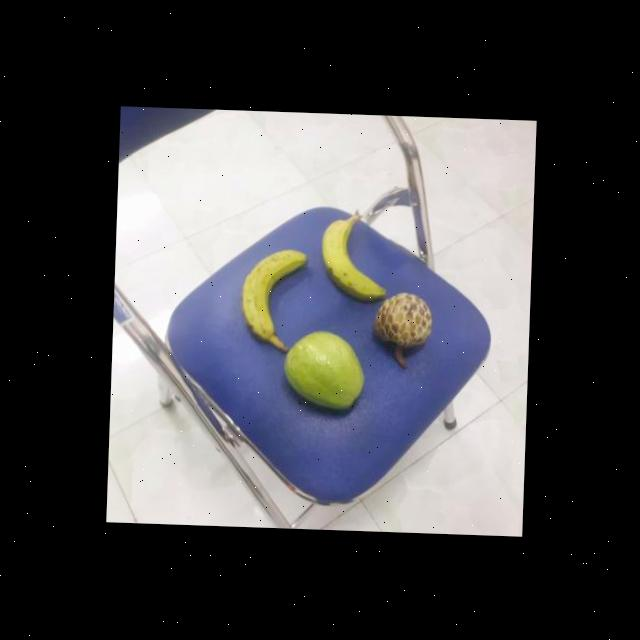Sakya fruit: (370, 292, 432, 358)
banana: (235, 245, 308, 340), (314, 213, 388, 299)
guava: (278, 329, 366, 409)
